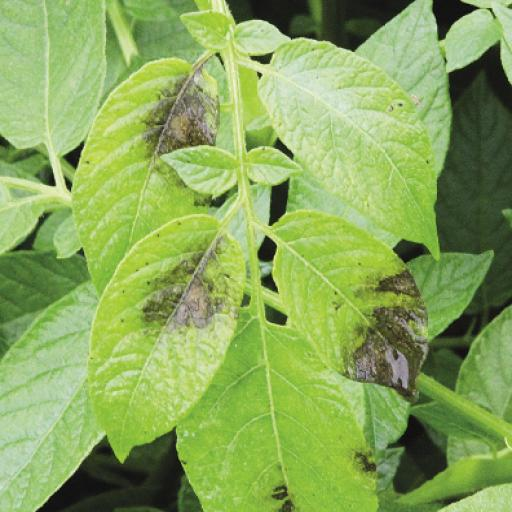disease_tomato: (84, 213, 246, 464), (76, 51, 222, 295), (266, 214, 426, 404)
